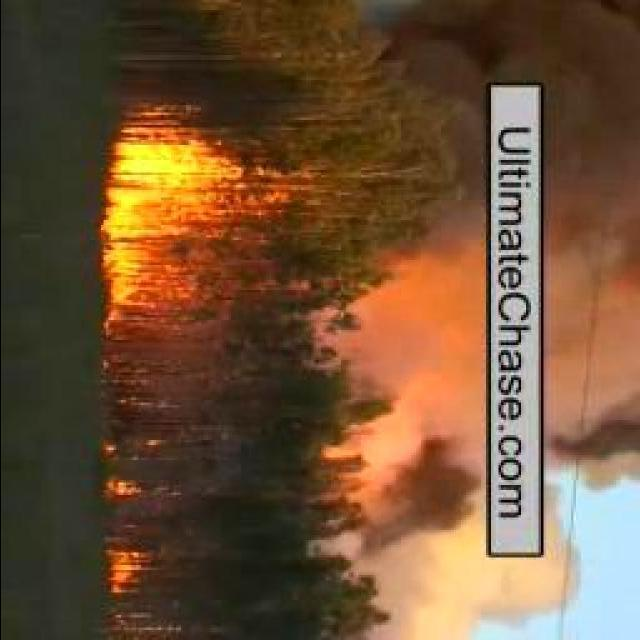Fire: (104, 136, 217, 320), (108, 548, 150, 596), (103, 472, 141, 504)
